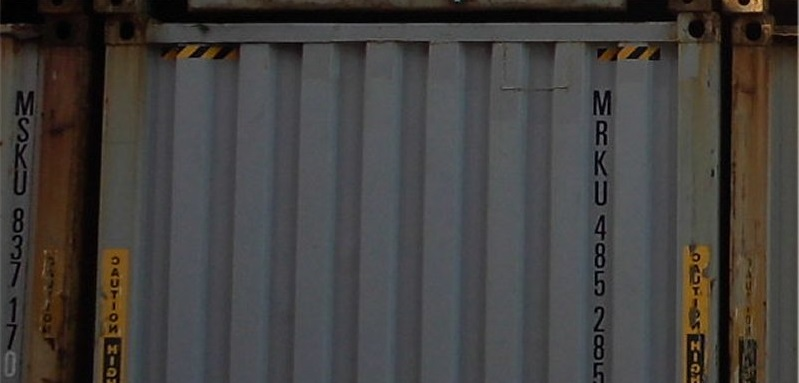container_no_door: (104, 15, 716, 383)
